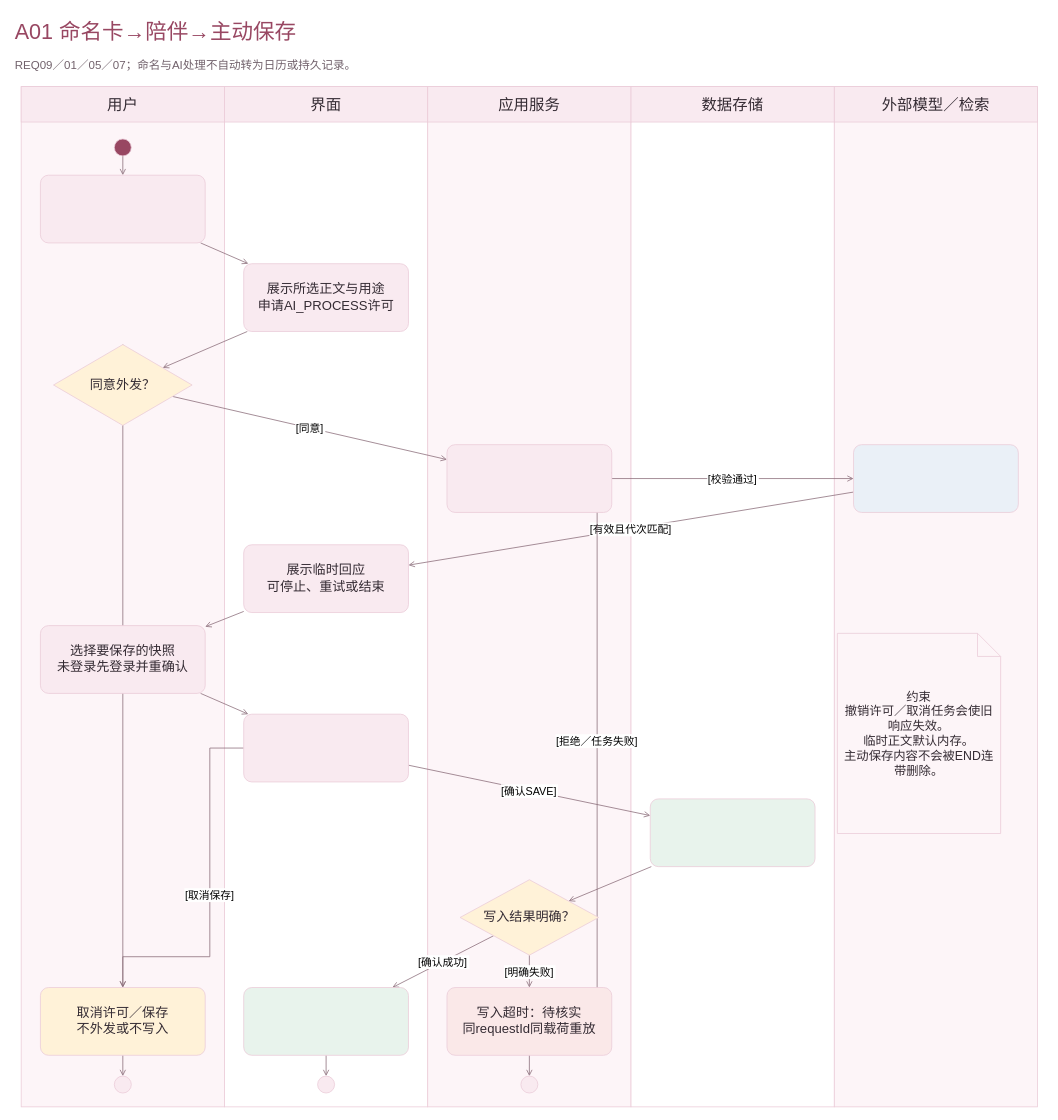
Some shapes in this 1058 by 1120 pixel diagram are drawn without their labels. The centre of each missing label's shape, as x and y in pixels:
"事务写记录与授权 幂等回执／对象版本" belongs at [732,832].
"仅处理已选定正文 生成限定任务回应" belongs at [935,478].
"确认成功才显示已保存 END只清临时会话" belongs at [325,1021].
"选择情绪词／强度 选择倾听或梳理" belongs at [122,208].
"预览范围并确认SAVE 取消则无持久写" belongs at [325,747].
"验证身份／可信入口 用途、版本和代次" belongs at [529,478].
